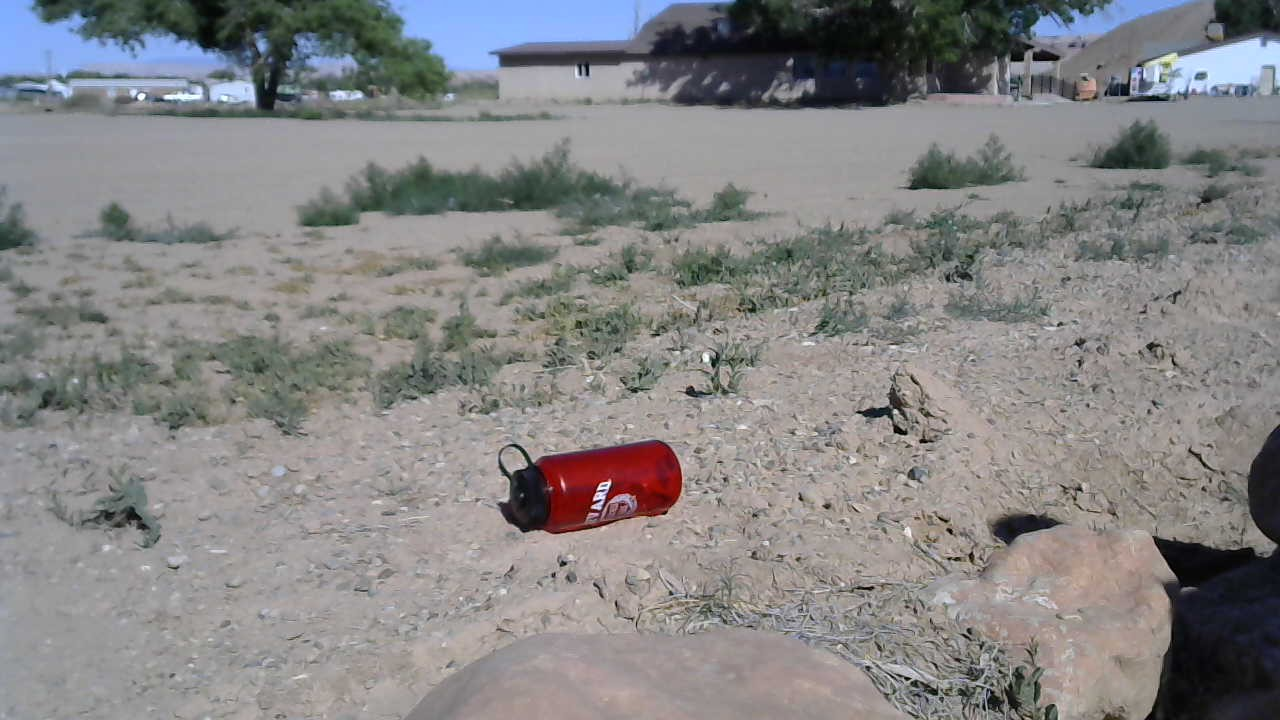bottle: (493, 434, 686, 537)
